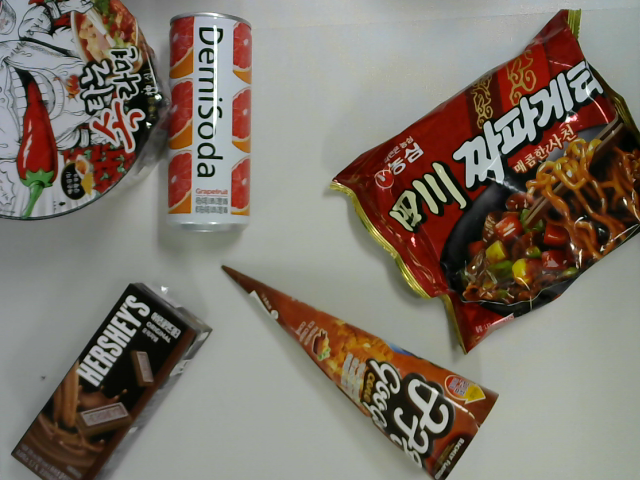Demisoda_Grapefruit_Can_250ml: (157, 4, 257, 250)
GooGoo_Cone_CVS: (215, 258, 506, 480)
HeJangsock: (2, 1, 170, 242)
Hush_Choco_Drink: (8, 271, 219, 480)
Sichuan_Chapaghetti: (321, 1, 639, 361)
